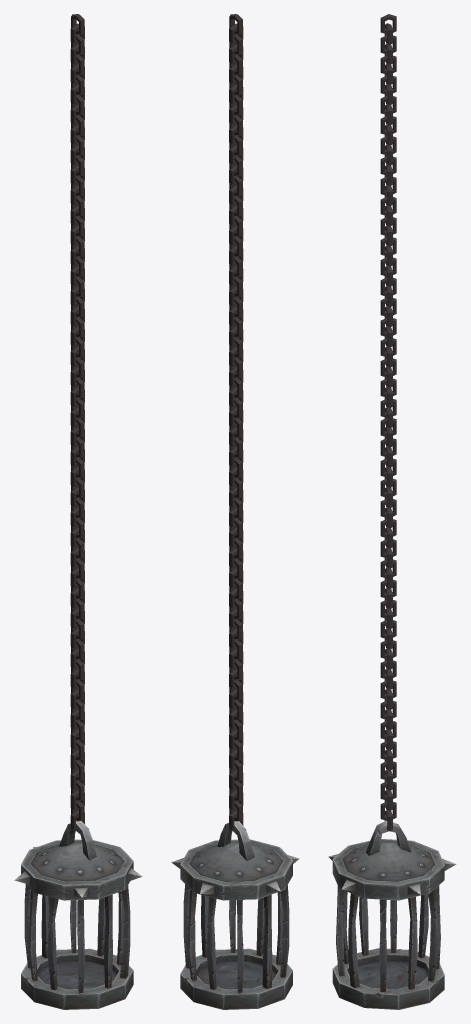
Rendered from cage.fbx.
3 renders of one model, left to right at view 1: azimuth 30°, elevation 25°; view 2: azimuth 210°, elevation 25°; view 3: azimuth 270°, elevation 25°, orthographic.
Visible parts, largest first — view 1: polySurface22_2, chain_1; view 2: polySurface22_2, chain_1; view 3: polySurface22_2, chain_1.
Part boxes in pixels (x1=…): polySurface22_2: x1=14, y1=821, x2=142, y2=1009; chain_1: x1=70, y1=14, x2=84, y2=830; polySurface22_2: x1=171, y1=821, x2=299, y2=1009; chain_1: x1=229, y1=14, x2=243, y2=830; polySurface22_2: x1=328, y1=820, x2=456, y2=1009; chain_1: x1=380, y1=14, x2=396, y2=831.
Size of the model in its own units: 198 by 1655 by 198.
Materials: 2 (1 with a texture image).
